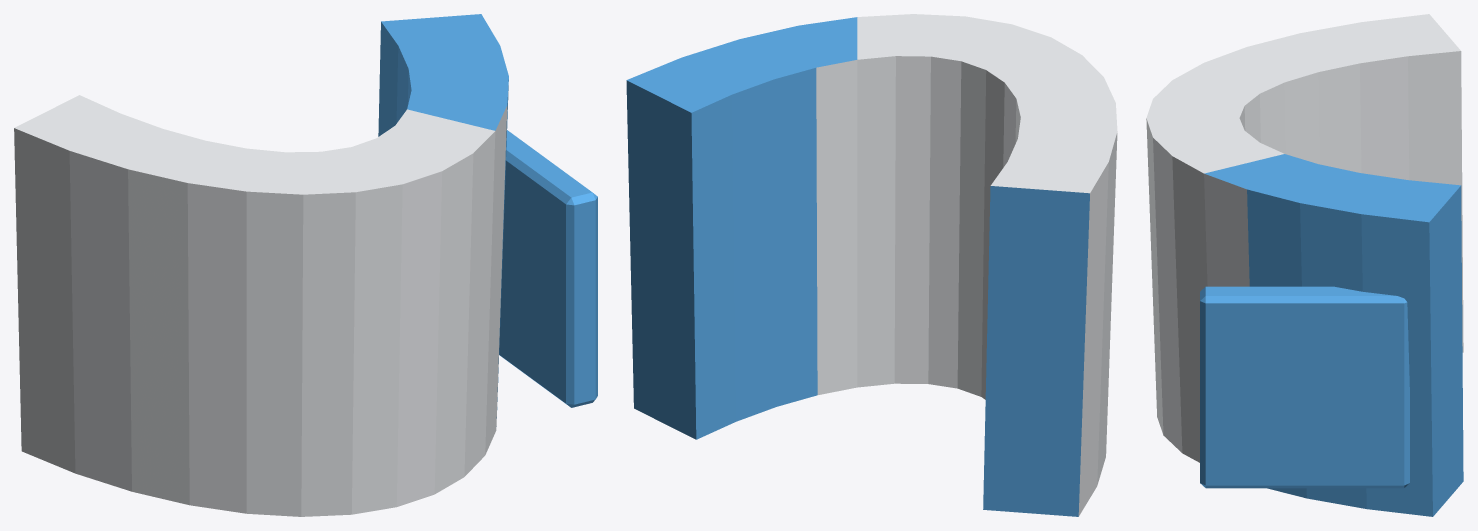
The model's file is left_shoulder__sleek_cap.glb.
The picture shows the model from 3 angles, left to right: view 1: azimuth 30°, elevation 25°; view 2: azimuth 150°, elevation 25°; view 3: azimuth 270°, elevation 25°; orthographic projection. The views are drawn at different scales.
Visible parts, largest first — view 1: armor_armor_left_shoulder__sleek_cap_v001_v001; view 2: armor_armor_left_shoulder__sleek_cap_v001_v001; view 3: armor_armor_left_shoulder__sleek_cap_v001_v001.
Boxes of the visible parts, x1,y1,x2,y2 form: armor_armor_left_shoulder__sleek_cap_v001_v001: (14, 14, 597, 516); armor_armor_left_shoulder__sleek_cap_v001_v001: (626, 14, 1117, 516); armor_armor_left_shoulder__sleek_cap_v001_v001: (1146, 14, 1463, 516).
Bounding box in the file's own units: 0.1764 × 0.118 × 0.1135.
